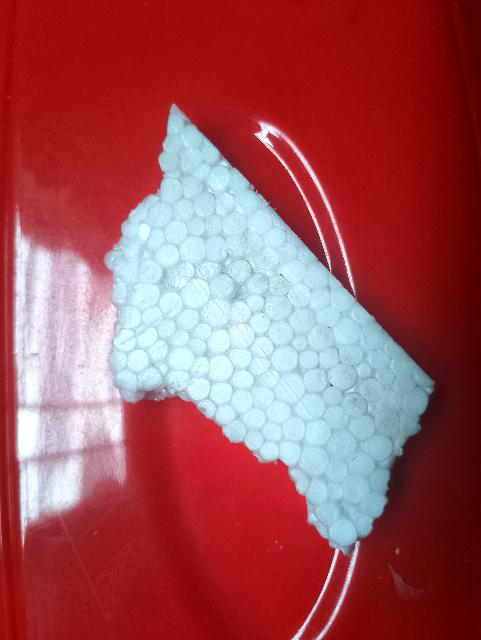cocksheet: (123, 128, 421, 536)
